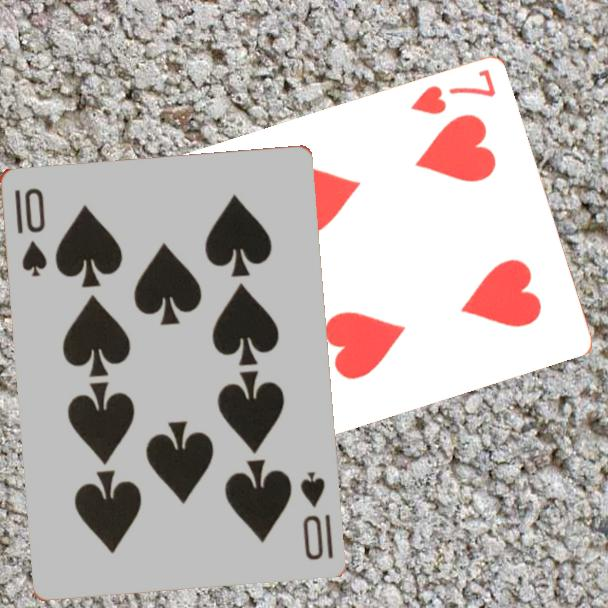h07: (406, 66, 499, 118)
s10: (10, 184, 50, 279), (296, 468, 336, 563)
